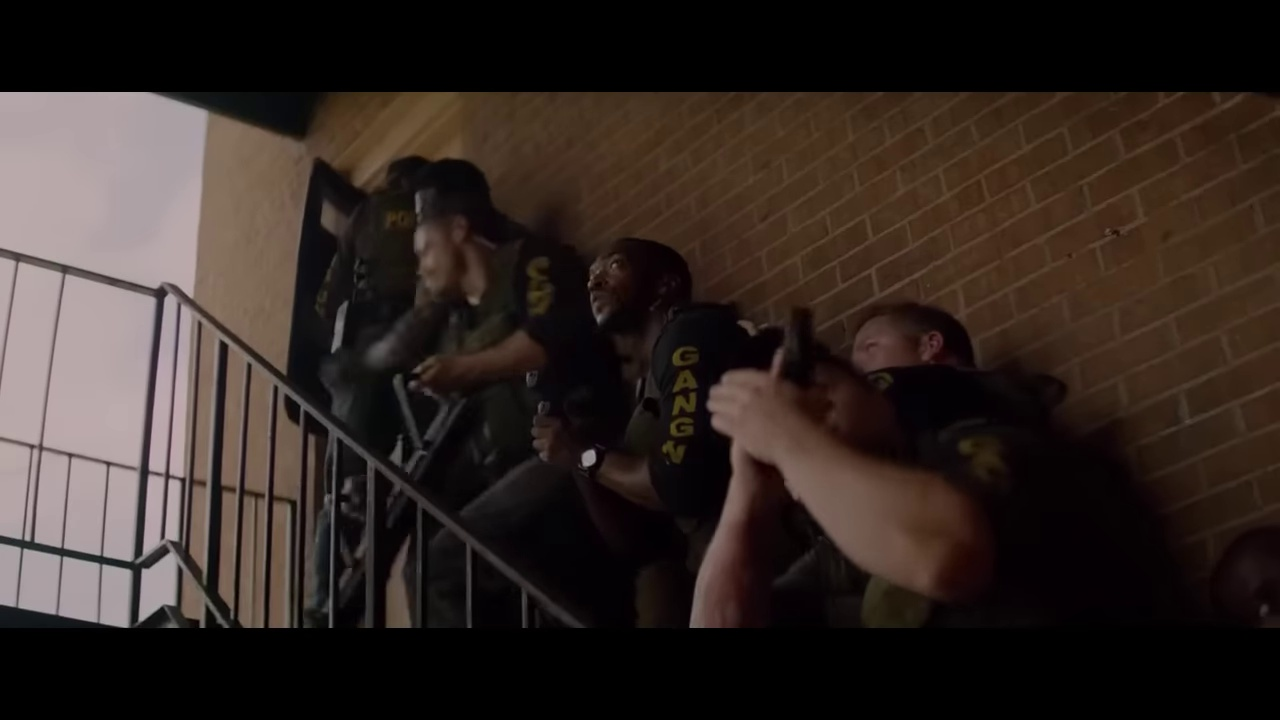gun: (304, 358, 482, 615), (749, 303, 826, 475), (525, 366, 568, 426)
p_w_gun: (693, 303, 1084, 629), (303, 188, 596, 620), (512, 231, 779, 631)
